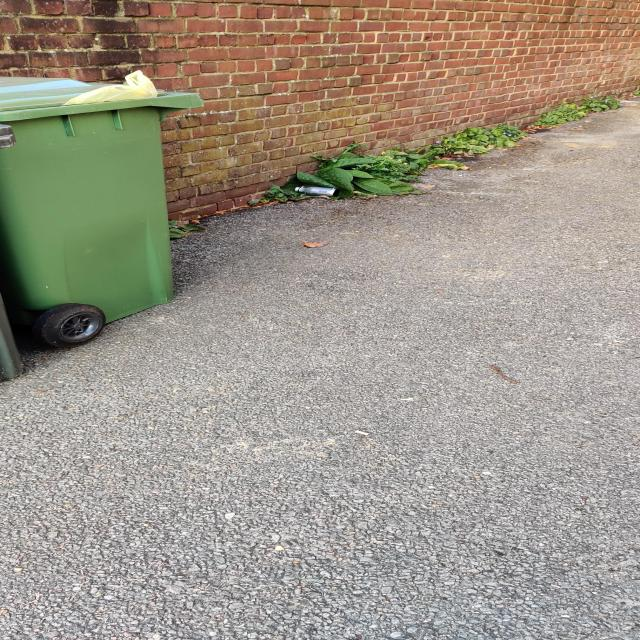litter: (289, 183, 342, 198)
